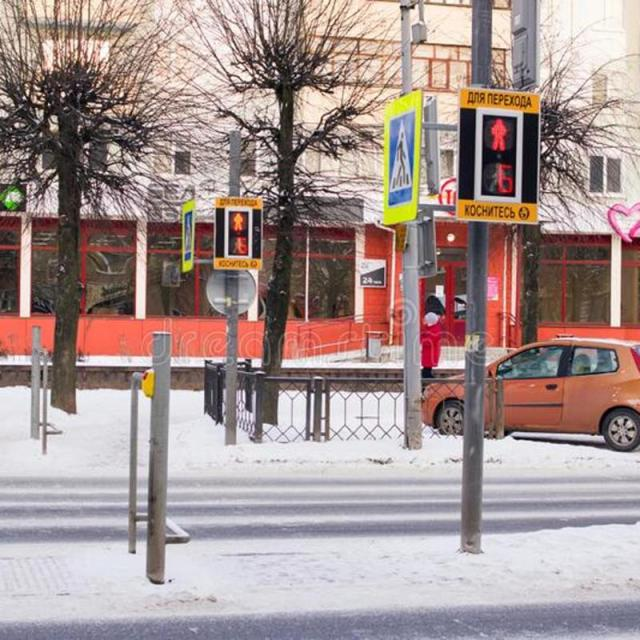red_light: (475, 104, 523, 157)
